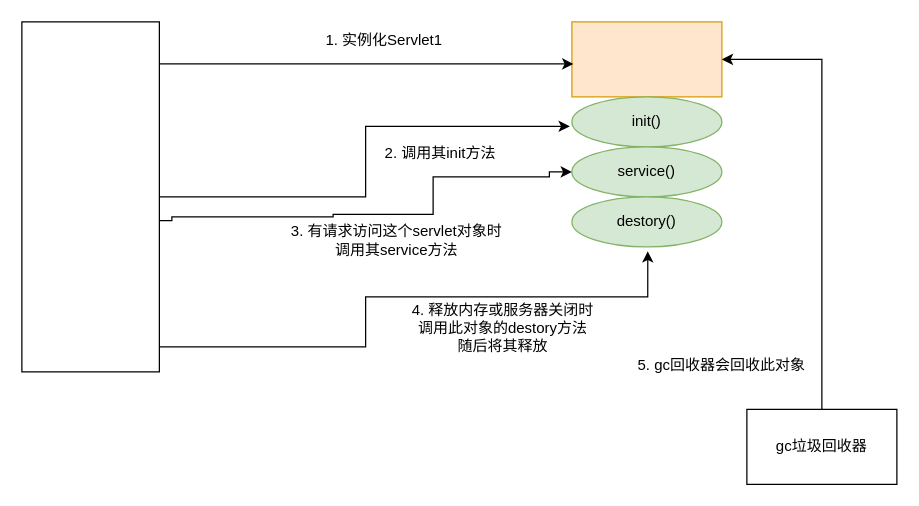
The diagram is 919 pixels wide and 506 high, and some of its shapes have lost their labels. The centre of each missing label's shape, as x and y in pixels:
"Servlet1" goes at pixel 646 59.
"tomcat容器" goes at pixel 90 196.
